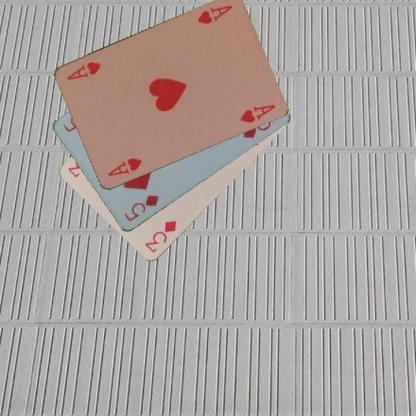3d: (142, 218, 178, 255)
5d: (121, 192, 160, 223)
Ah: (194, 3, 234, 26), (105, 155, 143, 178)
